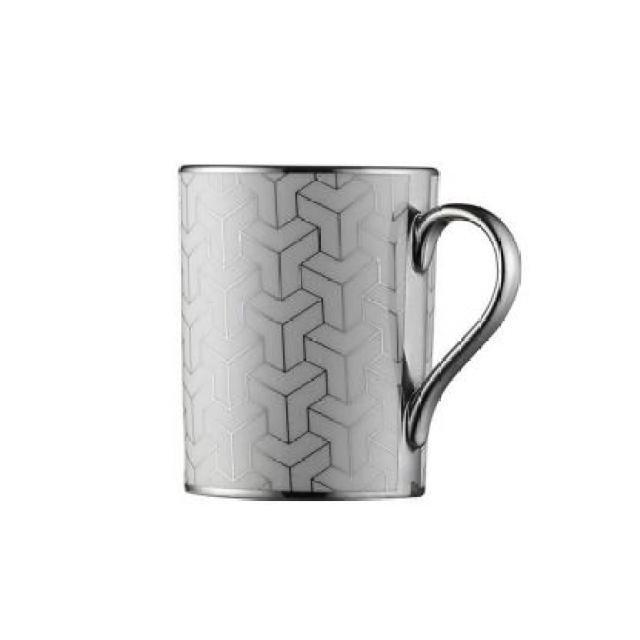taza: (172, 163, 524, 503)
